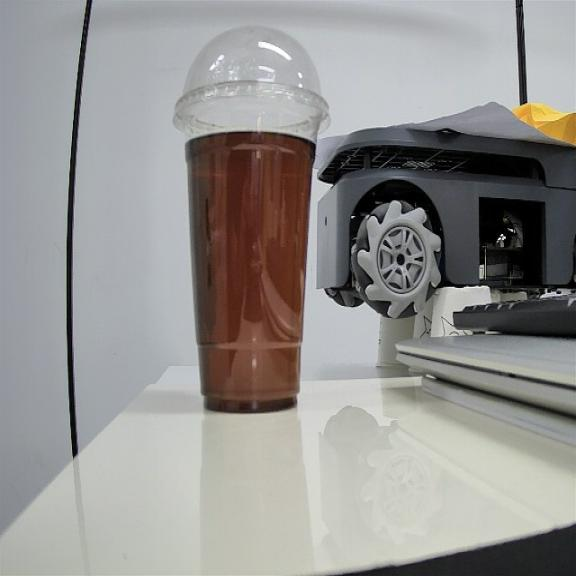Plastik: (173, 27, 330, 412)
